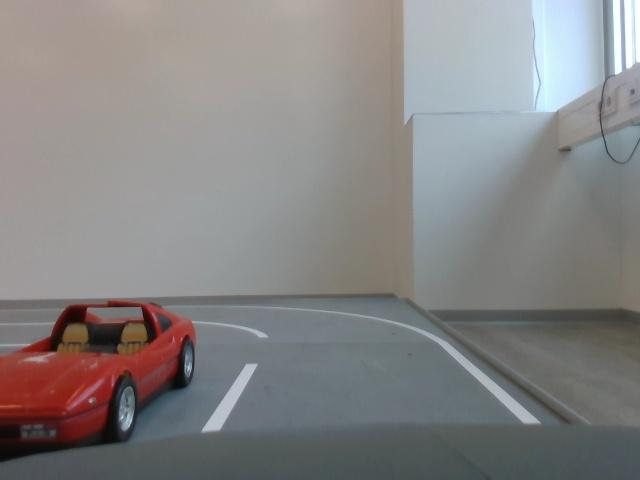car: (2, 287, 209, 453)
